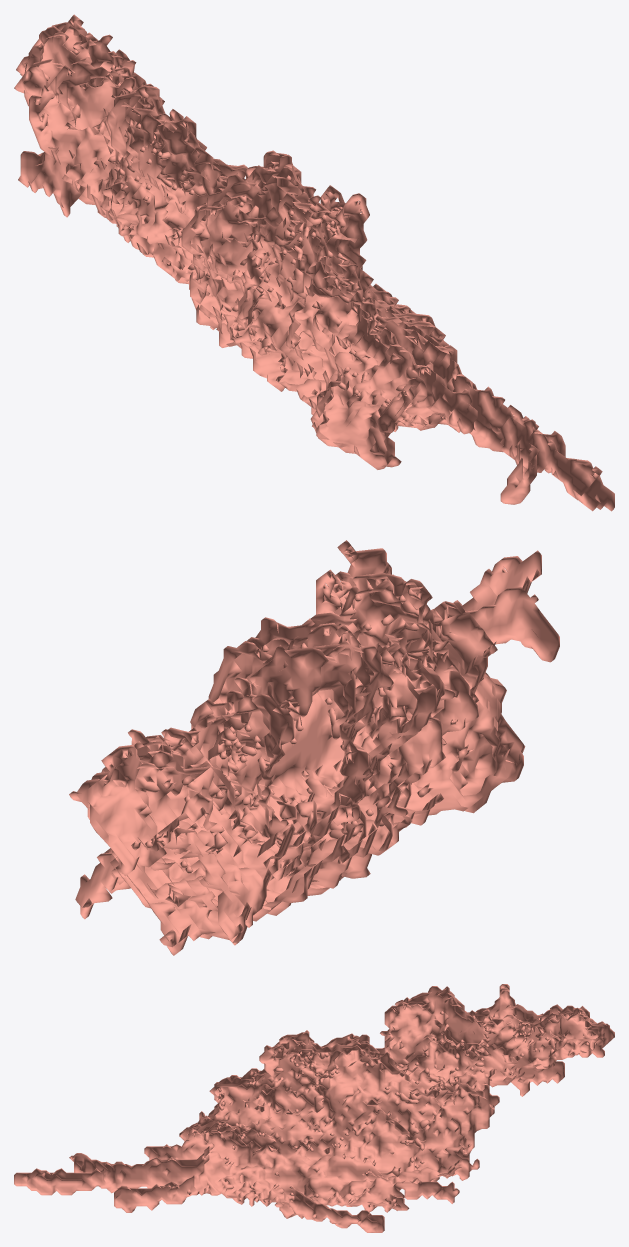
Rendered from osteocyte_87.glb.
3 views of the same model, one above another, from view 1: azimuth 30°, elevation 25°; view 2: azimuth 150°, elevation 25°; view 3: azimuth 270°, elevation 25° (orthographic). The views are drawn at different scales.
Visible parts, largest first — view 1: osteocyte_87; view 2: osteocyte_87; view 3: osteocyte_87.
Part boxes in pixels (bbox=[...]): osteocyte_87: bbox=[14, 14, 614, 511]; osteocyte_87: bbox=[69, 540, 559, 955]; osteocyte_87: bbox=[14, 984, 614, 1232].
Size of the model in its own units: 18.29 by 20.22 by 57.78.
